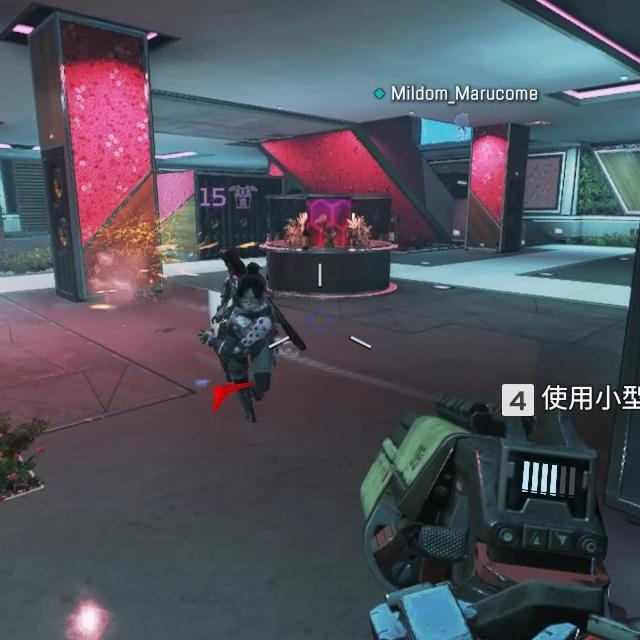avatar: (208, 260, 284, 426)
